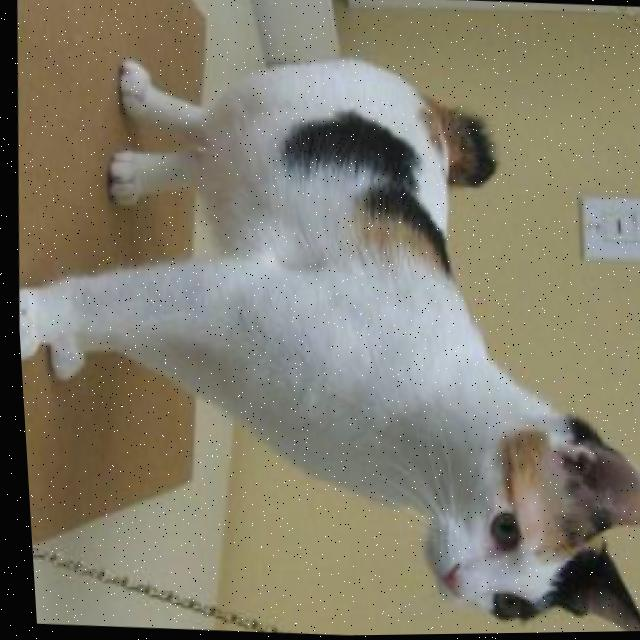American Bobtail: (2, 33, 640, 640)
